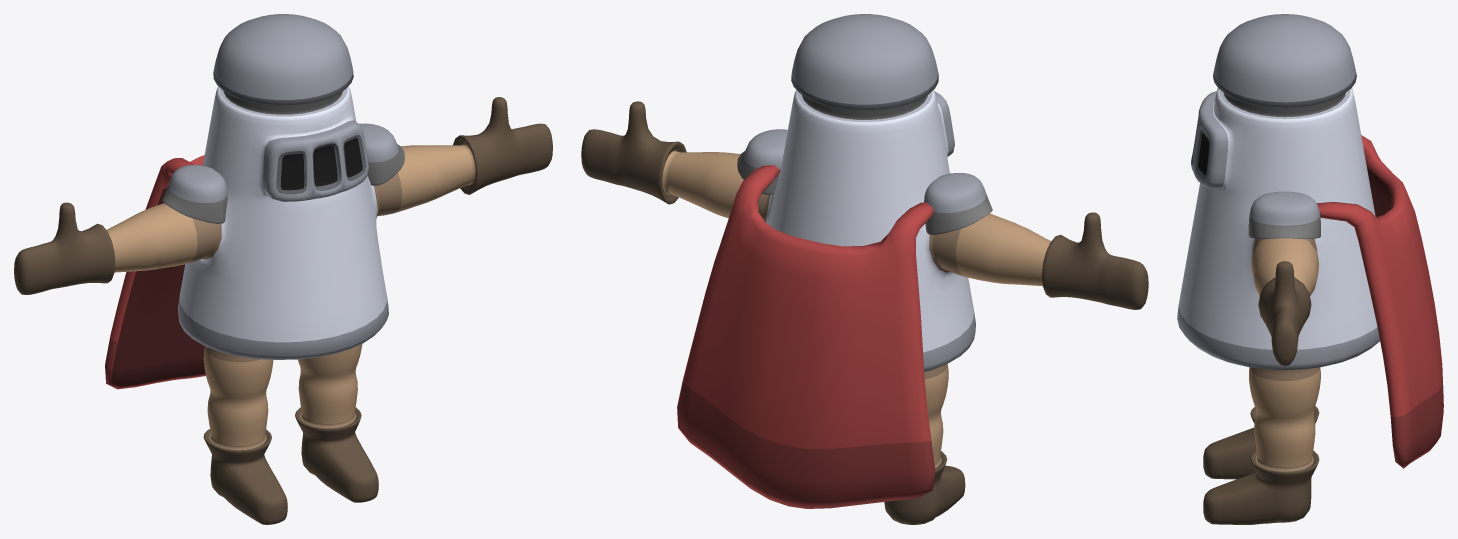
File: TRUE Salt Knight_VISOR.fbx
3 views of the same model, side by side, from view 1: azimuth 30°, elevation 25°; view 2: azimuth 150°, elevation 25°; view 3: azimuth 270°, elevation 25° (orthographic). The views are drawn at different scales.
Parts seen in each view (by area): view 1: Salt Knight COM ROSTO.004; view 2: Salt Knight COM ROSTO.004; view 3: Salt Knight COM ROSTO.004.
Part boxes in pixels (bbox=[...]): Salt Knight COM ROSTO.004: bbox=[14, 14, 552, 524]; Salt Knight COM ROSTO.004: bbox=[581, 14, 1148, 524]; Salt Knight COM ROSTO.004: bbox=[1177, 14, 1443, 524].
Size of the model in its own units: 885 by 732 by 374.
1 material, 1 textured.
